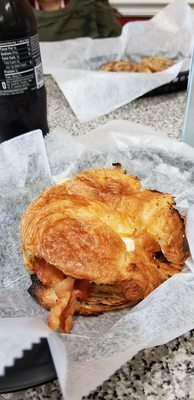soup: (19, 163, 188, 334)
